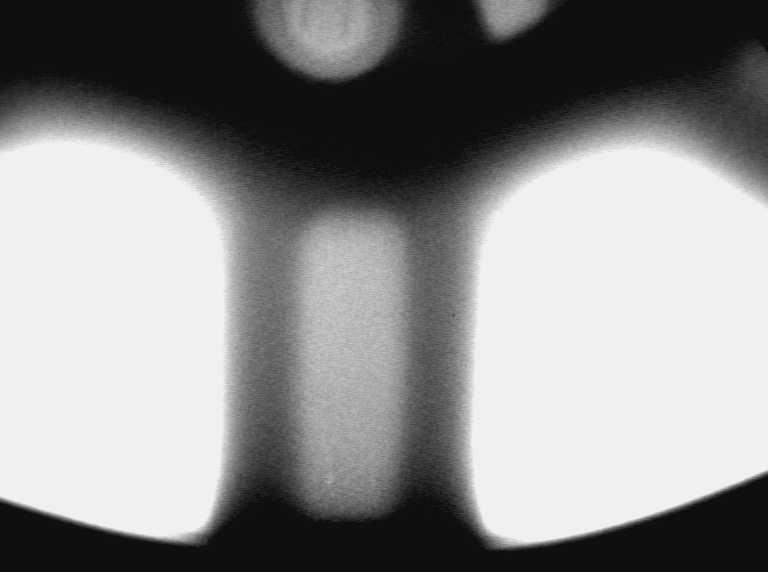defect: (333, 486, 349, 507)
